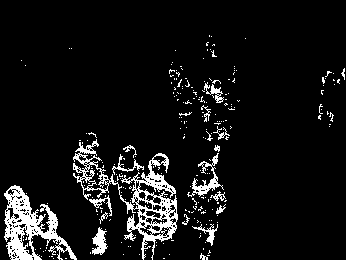person: (71, 130, 110, 254), (136, 152, 177, 258), (186, 159, 225, 260), (111, 143, 136, 239), (33, 207, 77, 260), (176, 77, 195, 142)
